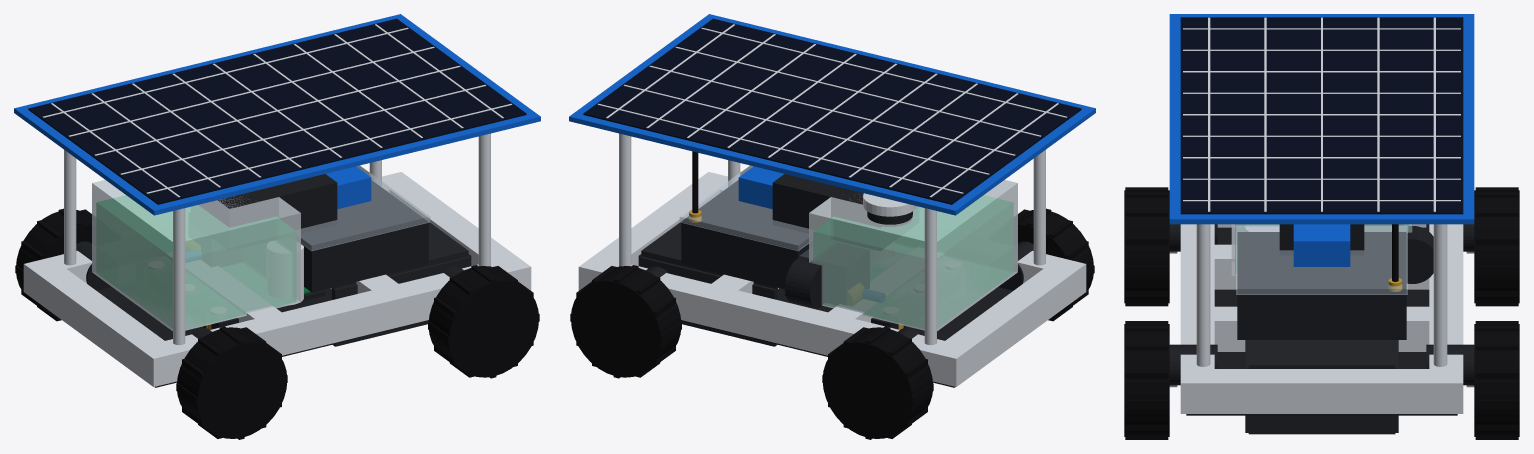
File: agropulse_assembled.obj
3 renders of one model, left to right at view 1: azimuth 30°, elevation 25°; view 2: azimuth 150°, elevation 25°; view 3: azimuth 270°, elevation 25°, orthographic. The views are drawn at different scales.
Parts seen in each view (by area): view 1: Solar_Cells_Active_Array, Chemical_Tank_Body, Chemical_Liquid_Fill, Chassis_Rail_Right, Avionics_Enclosure_Base, Solar_Canopy_Substrate, Tire_Tread_Rear_Right, Tire_Tread_Front_Right, Cross_Member_Rear, LiFePO4_Battery_Pack, Avionics_Clear_Lid, Cross_Member_Front (+15 smaller); view 2: Solar_Cells_Active_Array, Chemical_Tank_Body, Chemical_Liquid_Fill, Chassis_Rail_Left, Solar_Canopy_Substrate, Tire_Tread_Rear_Left, Tire_Tread_Front_Left, Avionics_Enclosure_Base, Cross_Member_Rear, Avionics_Clear_Lid, LiFePO4_Battery_Pack, Cross_Member_Front (+17 smaller); view 3: Solar_Cells_Active_Array, Avionics_Enclosure_Base, Cross_Member_Front, Solar_Canopy_Substrate, Avionics_Clear_Lid, Chassis_Rail_Right, Chassis_Rail_Left, Optical_Shroud_Top, Tire_Tread_Rear_Left, Tire_Tread_Rear_Right, Tire_Tread_Front_Left, Tire_Tread_Front_Right (+32 smaller).
Boxes of the visible parts, x1,y1,x2,y2 form: Solar_Cells_Active_Array: (28,18,526,204); Chemical_Tank_Body: (92,180,300,331); Chemical_Liquid_Fill: (96,195,296,328); Chassis_Rail_Right: (138,255,531,386); Avionics_Enclosure_Base: (301,180,428,292); Solar_Canopy_Substrate: (14,14,540,215); Tire_Tread_Rear_Right: (177,327,287,438); Tire_Tread_Front_Right: (429,266,538,377); Cross_Member_Rear: (39,269,164,375); LiFePO4_Battery_Pack: (198,174,337,233); Avionics_Clear_Lid: (301,165,430,250); Cross_Member_Front: (390,183,514,265); Solar_Cells_Active_Array: (583,18,1081,204); Chemical_Tank_Body: (809,180,1017,331); Chemical_Liquid_Fill: (813,195,1013,328); Chassis_Rail_Left: (578,255,971,386); Solar_Canopy_Substrate: (569,14,1095,215); Tire_Tread_Rear_Left: (822,327,932,438); Tire_Tread_Front_Left: (571,266,680,377); Avionics_Enclosure_Base: (681,180,808,289); Cross_Member_Rear: (945,269,1070,375); Avionics_Clear_Lid: (679,165,808,250); LiFePO4_Battery_Pack: (772,174,881,233); Cross_Member_Front: (595,184,719,265); Solar_Cells_Active_Array: (1180,17,1463,214); Avionics_Enclosure_Base: (1237,232,1406,339); Cross_Member_Front: (1214,369,1429,413); Solar_Canopy_Substrate: (1169,14,1474,224); Avionics_Clear_Lid: (1236,225,1407,294); Chassis_Rail_Right: (1180,224,1214,413); Chassis_Rail_Left: (1429,224,1463,413); Optical_Shroud_Top: (1248,340,1395,368); Tire_Tread_Rear_Left: (1474,190,1519,303); Tire_Tread_Rear_Right: (1124,190,1169,303); Tire_Tread_Front_Left: (1474,324,1519,436); Tire_Tread_Front_Right: (1124,324,1169,436).
Bounding box in the file's own units: 0.43 × 0.2465 × 0.35.
